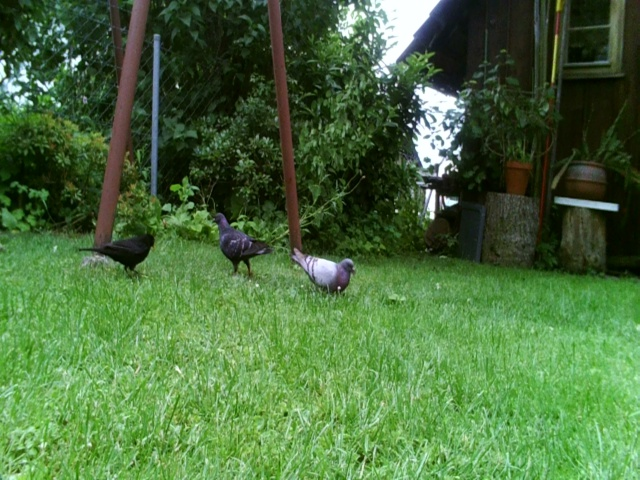Pigeon: (210, 210, 274, 280), (282, 246, 358, 292)
